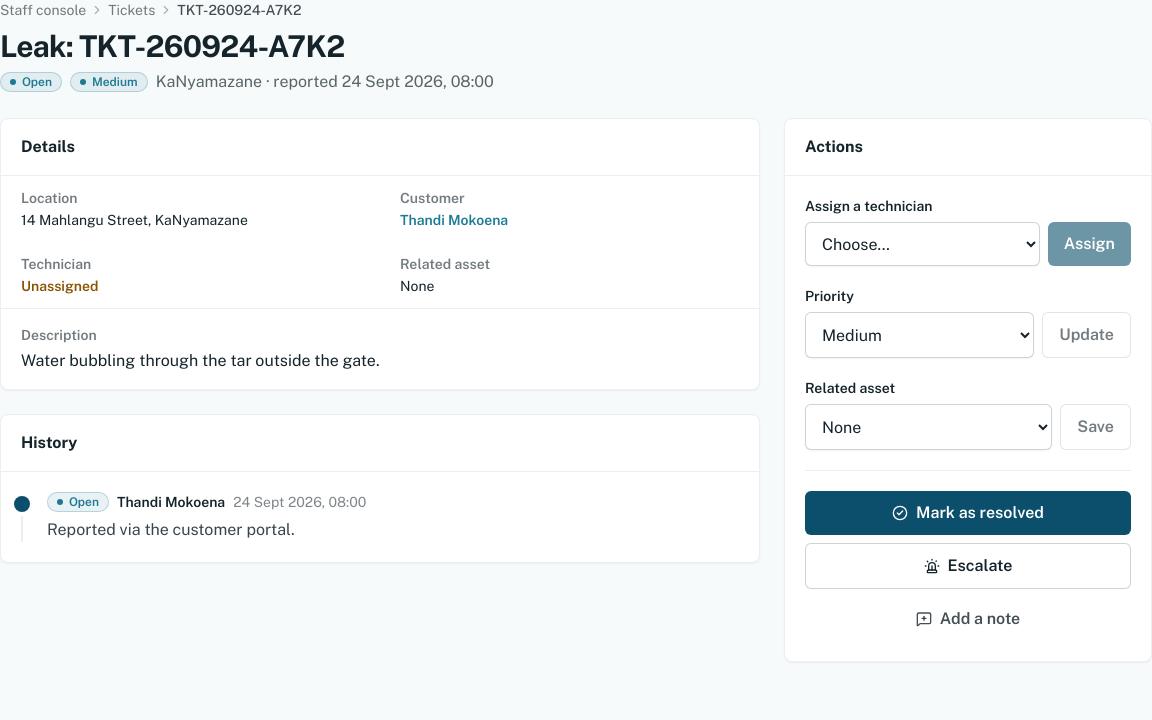
Scenario: Ticket page: call centre › keeps the dialog open with a friendly message if the save is refused
The width and height of the screenshot is (1152, 720).
Click the button "Add a note".
click(968, 619)  # box [805, 597, 1131, 641]
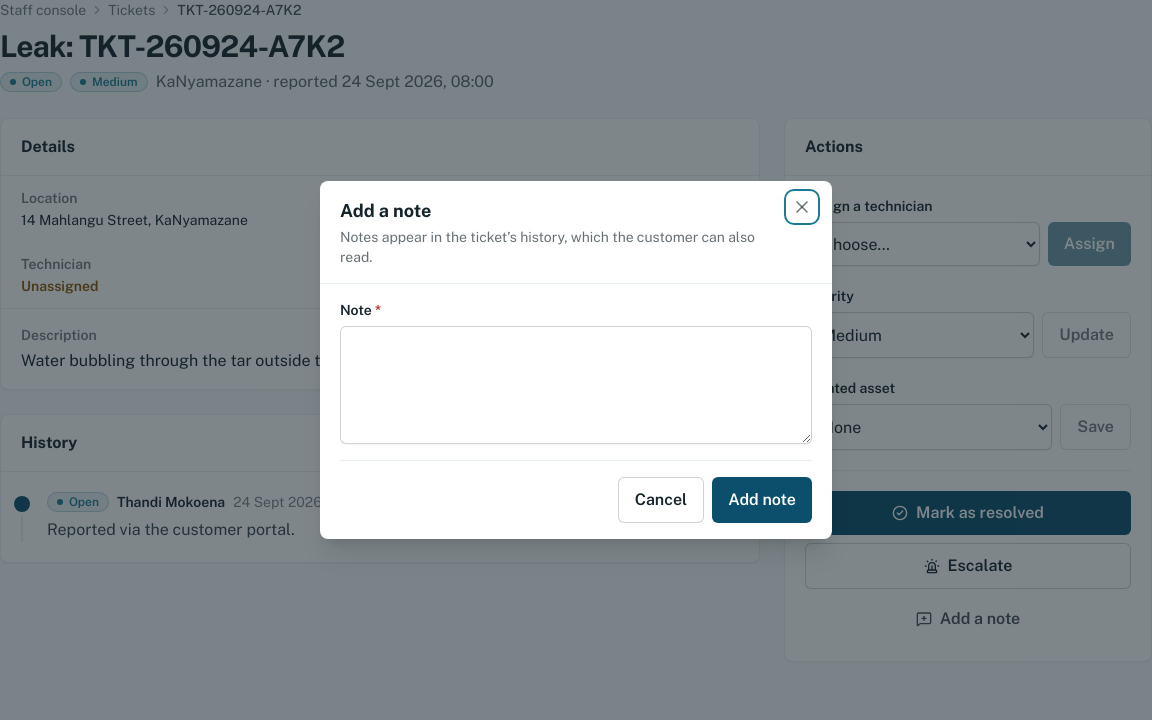
Type "Customer called again" into the text box labelled "Note *".
click(576, 385); type("Customer called again")  # box [340, 326, 812, 444]
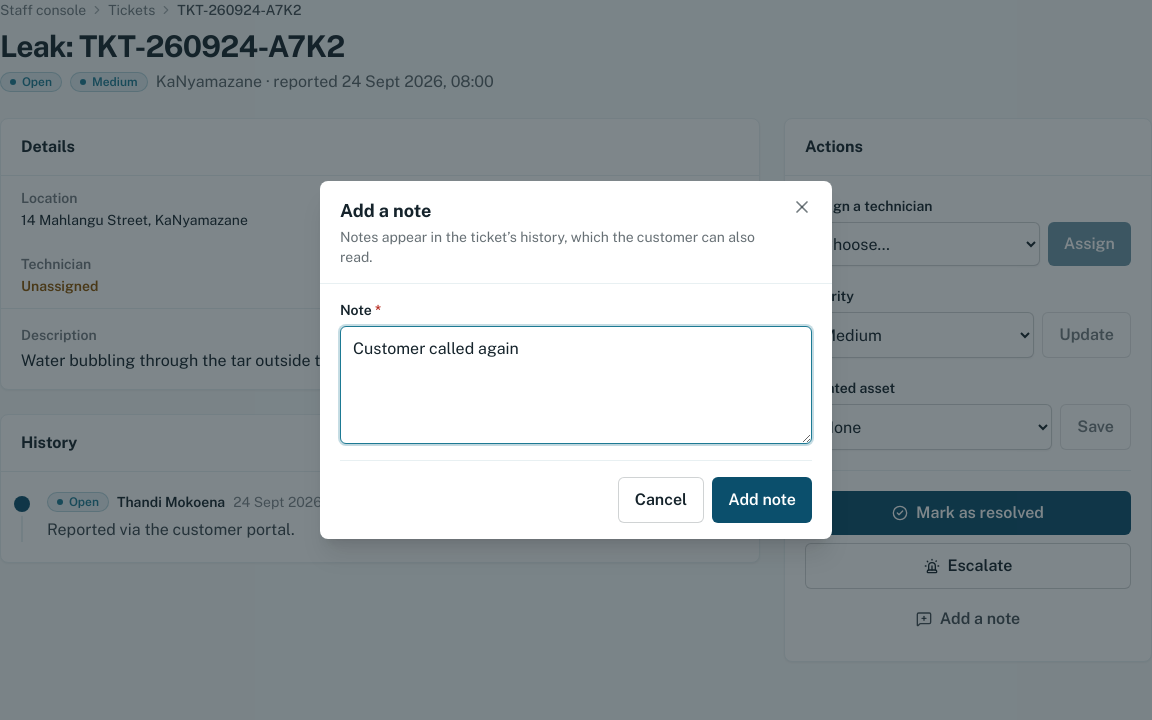
Click the button "Add note".
click(762, 500)  # box [712, 477, 812, 523]
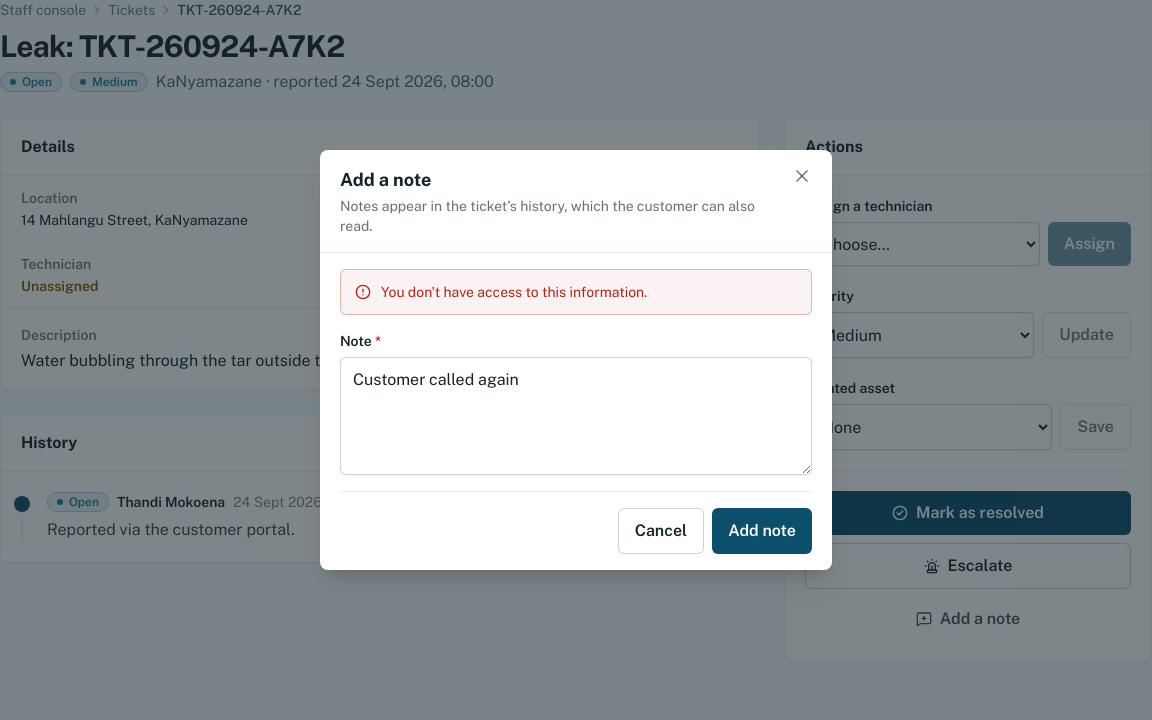
Check: the text "You don't have access to this information." is shown, box [381, 282, 647, 302]
